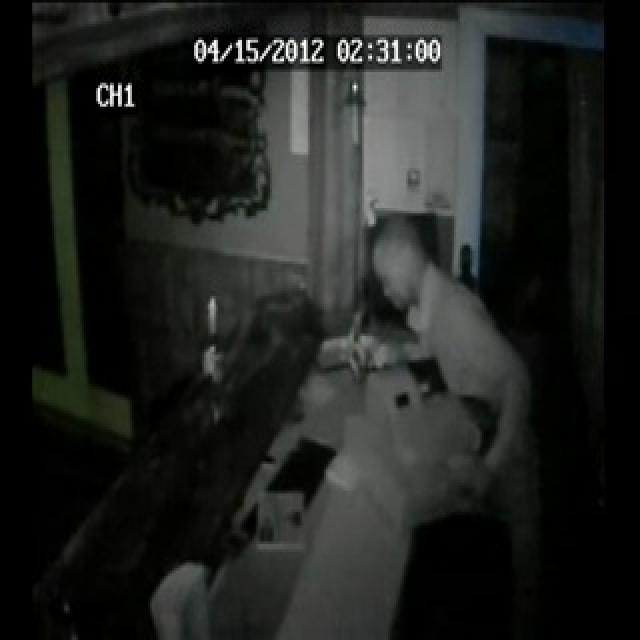thief: (358, 195, 463, 357)
